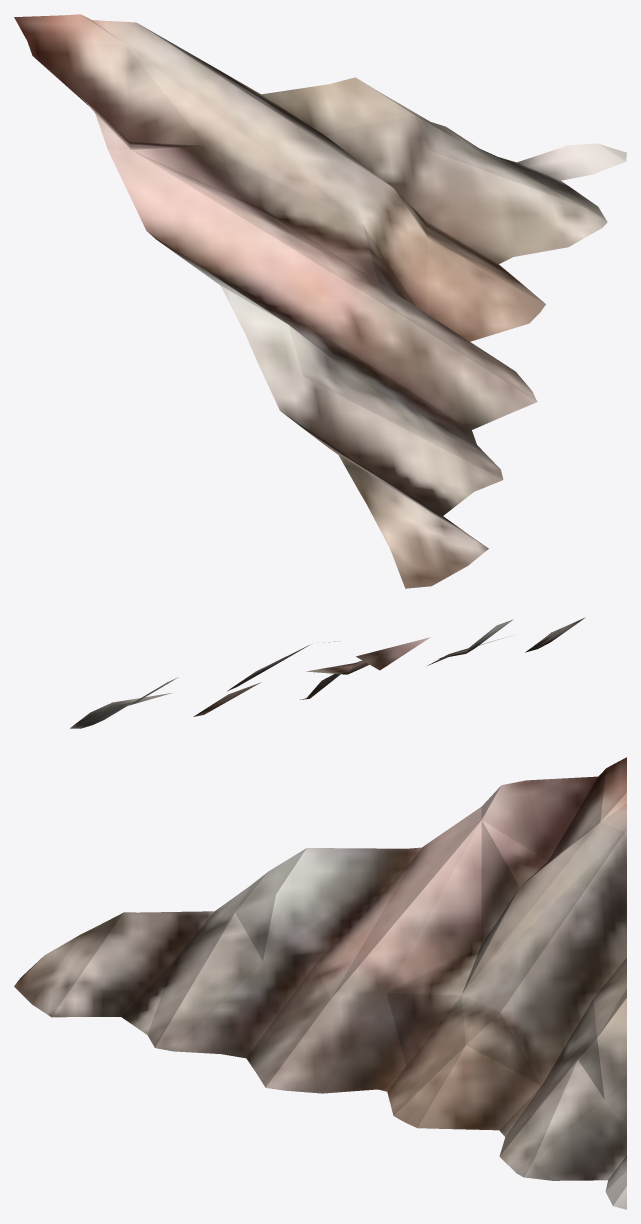
3 views of the same model, one above another, from view 1: azimuth 30°, elevation 25°; view 2: azimuth 150°, elevation 25°; view 3: azimuth 270°, elevation 25° (orthographic). The views are drawn at different scales.
Bounding box in the file's own units: 0.7473 × 0.3321 × 0.8349.
1 material, 1 textured.
